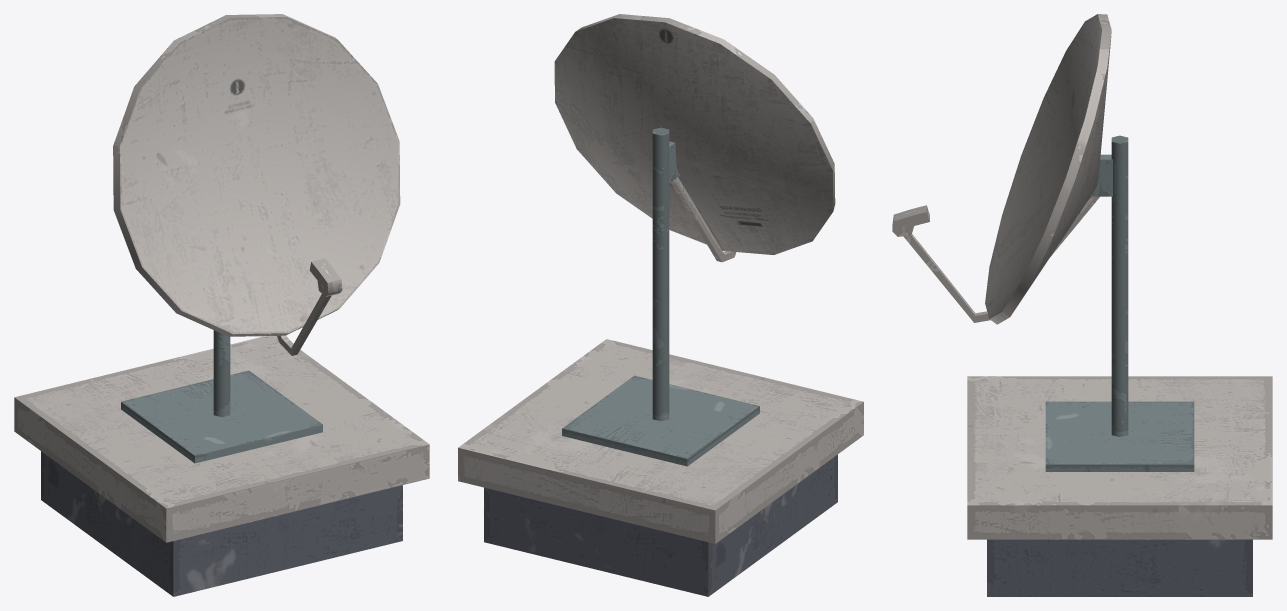
The model's file is jctRoofAntennaB.fbx.
3 renders of one model, left to right at view 1: azimuth 30°, elevation 25°; view 2: azimuth 150°, elevation 25°; view 3: azimuth 270°, elevation 25°, orthographic. The views are drawn at different scales.
Parts seen in each view (by area): view 1: jctRoofAntennaB; view 2: jctRoofAntennaB; view 3: jctRoofAntennaB.
Part boxes in pixels (x1,y1,x2,y2): jctRoofAntennaB: [14, 14, 429, 596]; jctRoofAntennaB: [458, 14, 863, 596]; jctRoofAntennaB: [892, 14, 1272, 596].
Bounding box in the file's own units: 102 × 174 × 117.
